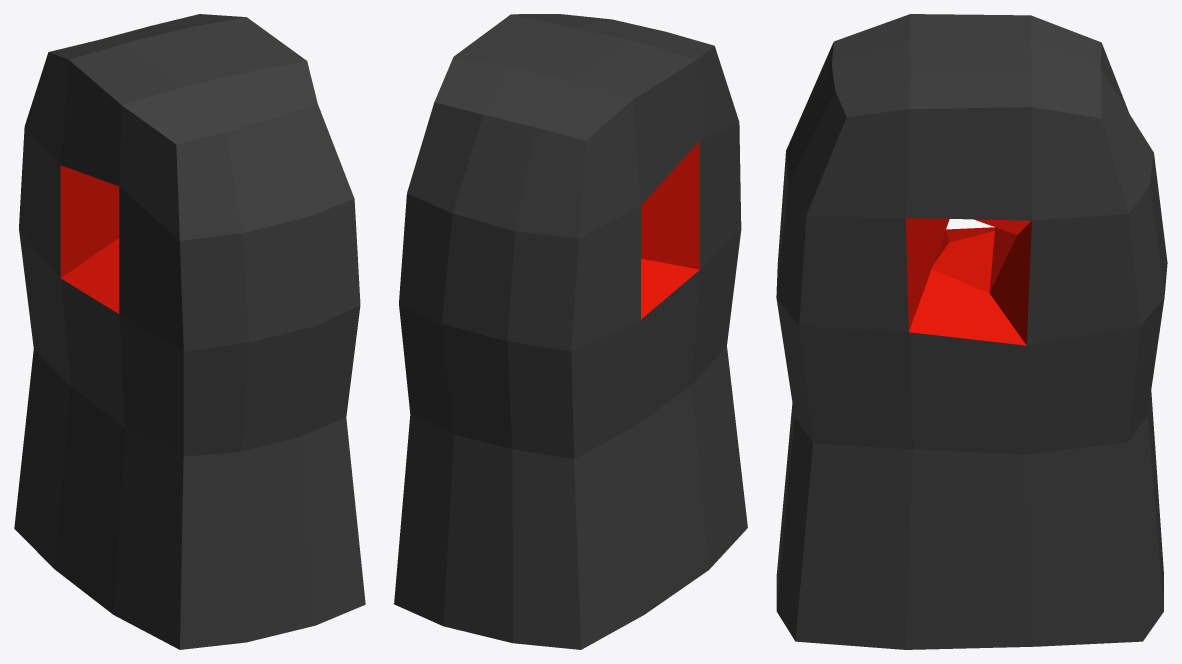
The model's file is coolrock2.fbx.
The picture shows the model from 3 angles, left to right: view 1: azimuth 30°, elevation 25°; view 2: azimuth 150°, elevation 25°; view 3: azimuth 270°, elevation 25°; orthographic projection. The views are drawn at different scales.
Parts seen in each view (by area): view 1: coolrock2; view 2: coolrock2; view 3: coolrock2.
Boxes of the visible parts, x1,y1,x2,y2 form: coolrock2: (14,14,365,649); coolrock2: (394,14,747,649); coolrock2: (776,14,1167,649).
Bounding box in the file's own units: 142 × 320 × 212.
